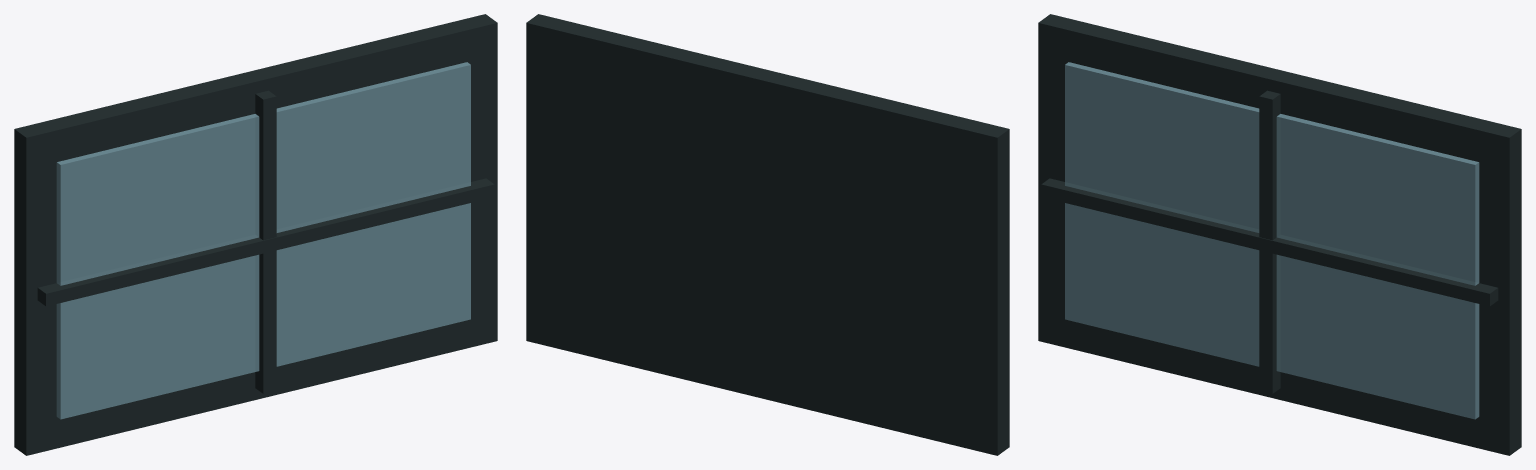
Rendered from component-window-wide.glb.
The picture shows the model from 3 angles, left to right: view 1: azimuth 30°, elevation 25°; view 2: azimuth 150°, elevation 25°; view 3: azimuth 330°, elevation 25°; orthographic projection.
Visible parts, largest first — view 1: wide_window_frame, wide_window_glass, wide_window_mullion_h, wide_window_mullion_v; view 2: wide_window_frame; view 3: wide_window_frame, wide_window_glass, wide_window_mullion_h, wide_window_mullion_v.
Part boxes in pixels (<box>): wide_window_frame: <box>14,14,497,455</box>; wide_window_glass: <box>56,62,470,419</box>; wide_window_mullion_h: <box>37,178,494,306</box>; wide_window_mullion_v: <box>255,90,276,393</box>; wide_window_frame: <box>526,14,1009,455</box>; wide_window_frame: <box>1038,14,1521,455</box>; wide_window_glass: <box>1065,62,1479,419</box>; wide_window_mullion_h: <box>1041,178,1498,306</box>; wide_window_mullion_v: <box>1259,90,1280,393</box>.
Bounding box in the file's own units: 1.24 × 0.8 × 0.093.
